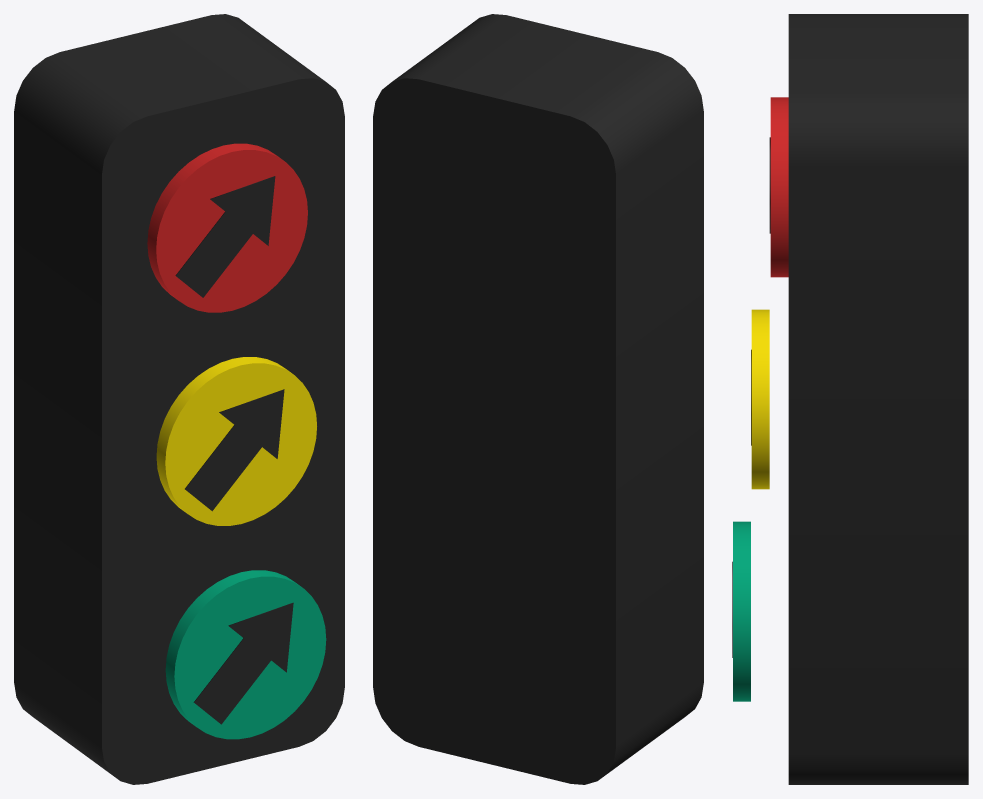
The model's file is R16dtd.glb.
3 renders of one model, left to right at view 1: azimuth 30°, elevation 25°; view 2: azimuth 150°, elevation 25°; view 3: azimuth 270°, elevation 25°, orthographic. The views are drawn at different scales.
Parts seen in each view (by area): view 1: R16dtd_r00, R16dtd_d250, R16dtd_d302, R16dtd_d276, R16dtd_s275, R16dtd_s327, R16dtd_s301; view 2: R16dtd_r00; view 3: R16dtd_r00, R16dtd_d250, R16dtd_d276, R16dtd_d302.
Boxes of the visible parts, <box> form: R16dtd_r00: <box>14,14,344,784</box>; R16dtd_d250: <box>147,143,307,312</box>; R16dtd_d302: <box>165,570,326,739</box>; R16dtd_d276: <box>156,357,316,525</box>; R16dtd_s275: <box>175,176,275,297</box>; R16dtd_s327: <box>193,602,293,724</box>; R16dtd_s301: <box>185,389,284,511</box>; R16dtd_r00: <box>373,14,703,784</box>; R16dtd_r00: <box>788,14,968,784</box>; R16dtd_d250: <box>770,97,788,277</box>; R16dtd_d276: <box>751,309,769,489</box>; R16dtd_d302: <box>733,521,750,701</box>.
Size of the model in its own units: 0.16 by 0.42 by 0.1312.
